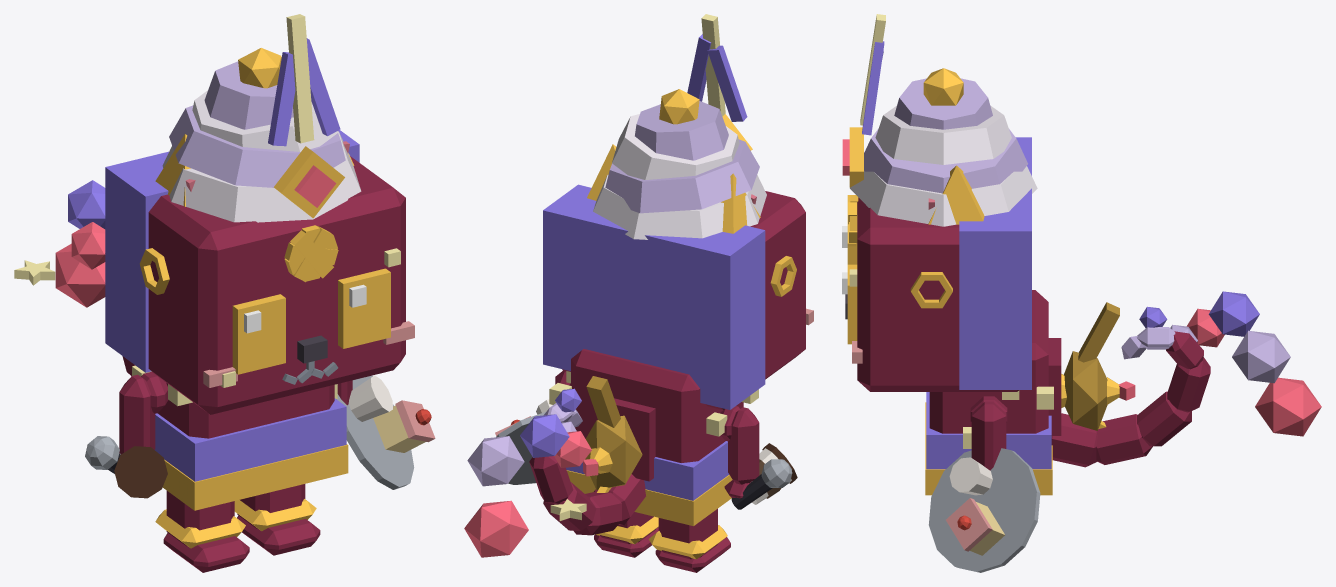
The model's file is CatCafe_Cat_Djinn_Work.glb.
The picture shows the model from 3 angles, left to right: view 1: azimuth 30°, elevation 25°; view 2: azimuth 150°, elevation 25°; view 3: azimuth 270°, elevation 25°; orthographic projection. The views are drawn at different scales.
Parts seen in each view (by area): view 1: CatCafe_Cat_Djinn_Work_Head, CatCafe_Cat_Djinn_Work_Prop, CatCafe_Cat_Djinn_Work_Body, CatCafe_Cat_Djinn_Work_Held_Waiter, CatCafe_Cat_Djinn_Work_Glow, CatCafe_Cat_Djinn_Work_Smoke_Glow, CatCafe_Cat_Djinn_Work_LegB2, CatCafe_Cat_Djinn_Work_LegB1, CatCafe_Cat_Djinn_Work_Eye2, CatCafe_Cat_Djinn_Work_Eye1, CatCafe_Cat_Djinn_Work_LegF2, CatCafe_Cat_Djinn_Work_Held_Barista (+2 smaller); view 2: CatCafe_Cat_Djinn_Work_Head, CatCafe_Cat_Djinn_Work_Prop, CatCafe_Cat_Djinn_Work_Body, CatCafe_Cat_Djinn_Work_Smoke_Glow, CatCafe_Cat_Djinn_Work_Prop2, CatCafe_Cat_Djinn_Work_Tail, CatCafe_Cat_Djinn_Work_Glow, CatCafe_Cat_Djinn_Work_LegB2, CatCafe_Cat_Djinn_Work_LegF2, CatCafe_Cat_Djinn_Work_LegB1, CatCafe_Cat_Djinn_Work_Held_Entertainer, CatCafe_Cat_Djinn_Work_Held_Waiter (+3 smaller); view 3: CatCafe_Cat_Djinn_Work_Head, CatCafe_Cat_Djinn_Work_Prop, CatCafe_Cat_Djinn_Work_Held_Waiter, CatCafe_Cat_Djinn_Work_Body, CatCafe_Cat_Djinn_Work_Tail, CatCafe_Cat_Djinn_Work_Smoke_Glow, CatCafe_Cat_Djinn_Work_Prop2, CatCafe_Cat_Djinn_Work_LegF1, CatCafe_Cat_Djinn_Work_Glow, CatCafe_Cat_Djinn_Work_EarL, CatCafe_Cat_Djinn_Work_Eye1.
Part boxes in pixels (box(x1,y1,x2,y2)): CatCafe_Cat_Djinn_Work_Head: box(105, 130, 414, 414); CatCafe_Cat_Djinn_Work_Prop: box(139, 48, 361, 294); CatCafe_Cat_Djinn_Work_Body: box(132, 365, 348, 510); CatCafe_Cat_Djinn_Work_Held_Waiter: box(336, 375, 435, 489); CatCafe_Cat_Djinn_Work_Glow: box(268, 14, 340, 207); CatCafe_Cat_Djinn_Work_Smoke_Glow: box(14, 180, 105, 307); CatCafe_Cat_Djinn_Work_LegB2: box(155, 491, 249, 572); CatCafe_Cat_Djinn_Work_LegB1: box(234, 484, 320, 555); CatCafe_Cat_Djinn_Work_Eye2: box(232, 294, 285, 374); CatCafe_Cat_Djinn_Work_Eye1: box(338, 268, 390, 348); CatCafe_Cat_Djinn_Work_LegF2: box(119, 374, 155, 454); CatCafe_Cat_Djinn_Work_Held_Barista: box(114, 446, 167, 498); CatCafe_Cat_Djinn_Work_Head: box(543, 184, 813, 409); CatCafe_Cat_Djinn_Work_Prop: box(593, 89, 796, 296); CatCafe_Cat_Djinn_Work_Body: box(549, 349, 758, 526); CatCafe_Cat_Djinn_Work_Smoke_Glow: box(464, 388, 591, 557); CatCafe_Cat_Djinn_Work_Prop2: box(583, 376, 655, 492); CatCafe_Cat_Djinn_Work_Tail: box(529, 403, 645, 535); CatCafe_Cat_Djinn_Work_Glow: box(687, 14, 747, 121); CatCafe_Cat_Djinn_Work_LegB2: box(648, 508, 730, 572); CatCafe_Cat_Djinn_Work_LegF2: box(724, 407, 759, 498); CatCafe_Cat_Djinn_Work_LegB1: box(594, 512, 658, 557); CatCafe_Cat_Djinn_Work_Held_Entertainer: box(731, 459, 792, 509); CatCafe_Cat_Djinn_Work_Held_Waiter: box(495, 399, 552, 484); CatCafe_Cat_Djinn_Work_Head: box(845, 137, 1031, 391); CatCafe_Cat_Djinn_Work_Prop: box(849, 68, 1037, 308); CatCafe_Cat_Djinn_Work_Held_Waiter: box(928, 448, 1040, 572); CatCafe_Cat_Djinn_Work_Body: box(925, 290, 1053, 495); CatCafe_Cat_Djinn_Work_Tail: box(1051, 327, 1210, 467); CatCafe_Cat_Djinn_Work_Smoke_Glow: box(1139, 291, 1321, 436); CatCafe_Cat_Djinn_Work_Prop2: box(1048, 302, 1135, 435); CatCafe_Cat_Djinn_Work_LegF1: box(971, 401, 1006, 470); CatCafe_Cat_Djinn_Work_Glow: box(842, 14, 885, 175); CatCafe_Cat_Djinn_Work_EarL: box(928, 165, 984, 224); CatCafe_Cat_Djinn_Work_Eye1: box(842, 264, 857, 344).
Bounding box in the file's own units: 1.53 × 2.5 × 2.11.
1 material, 1 textured.
